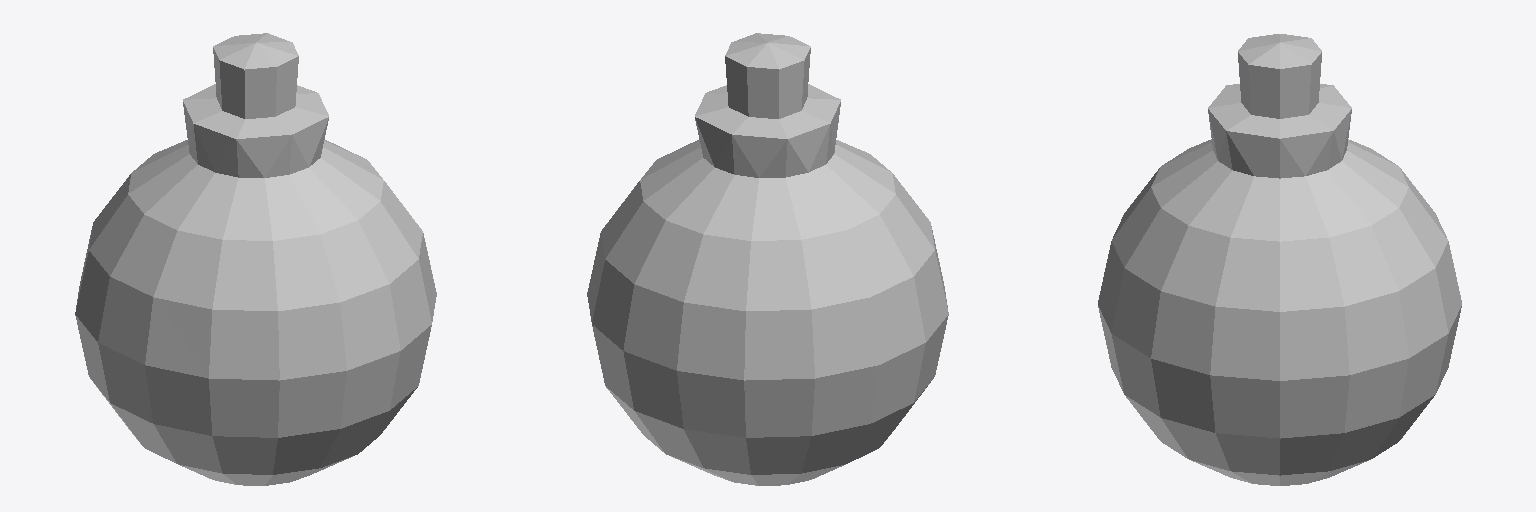
Rendered from clown_bomb.obj.
3 renders of one model, left to right at view 1: azimuth 30°, elevation 25°; view 2: azimuth 150°, elevation 25°; view 3: azimuth 270°, elevation 25°, orthographic.
Visible parts, largest first — view 1: clown_bomb; view 2: clown_bomb; view 3: clown_bomb.
Boxes of the visible parts, x1=… form: clown_bomb: x1=75, y1=33, x2=436, y2=485; clown_bomb: x1=587, y1=33, x2=948, y2=485; clown_bomb: x1=1098, y1=34, x2=1461, y2=485.
Size of the model in its own units: 0.4542 by 0.5863 by 0.4542.